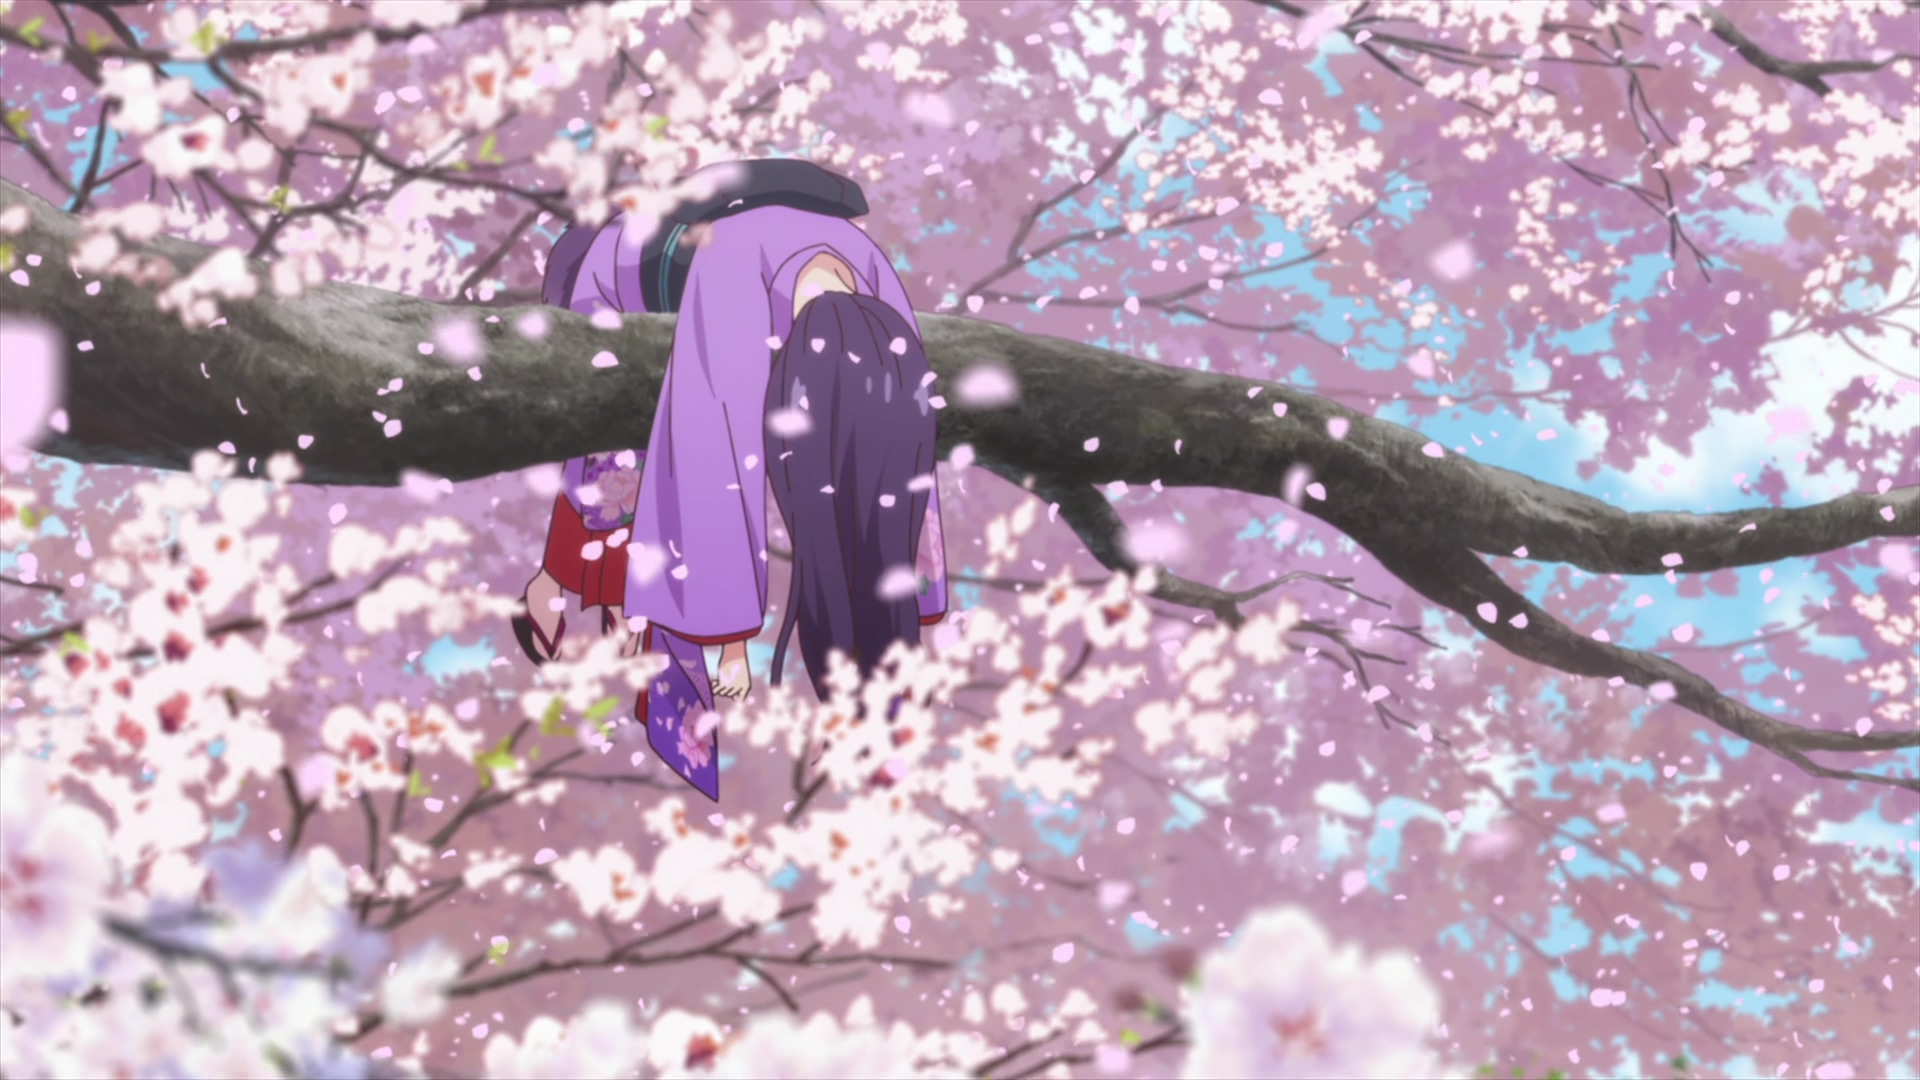皋: (517, 157, 951, 804)
